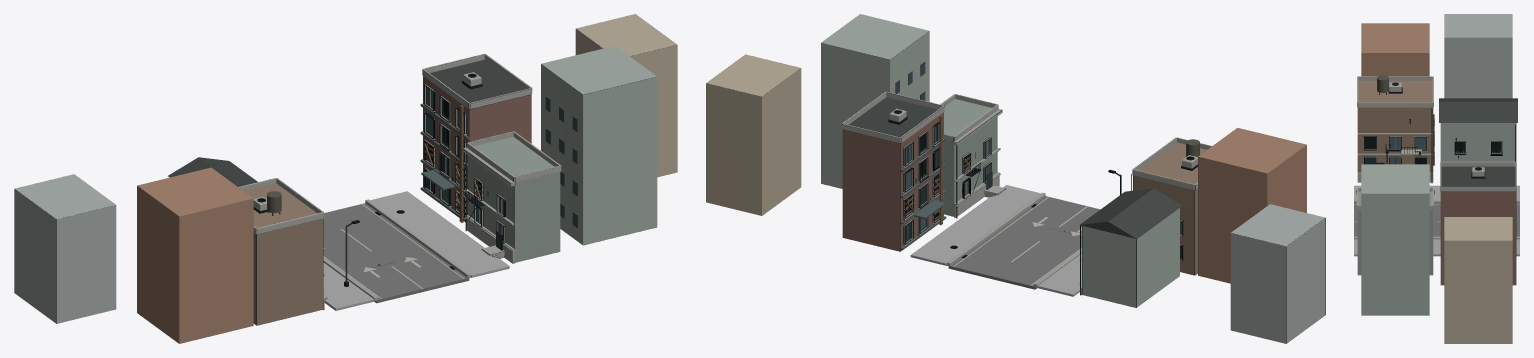
File: city_hd_20.glb
3 views of the same model, side by side, from view 1: azimuth 30°, elevation 25°; view 2: azimuth 150°, elevation 25°; view 3: azimuth 270°, elevation 25° (orthographic). The views are drawn at different scales.
Parts seen in each view (by area): view 1: Background city building, CITY_PBR_asphalt, CITY_PBR_pavement, CITY_curb, CITY_paint; view 2: Background city building, CITY_PBR_asphalt, CITY_PBR_pavement, CITY_curb, CITY_paint; view 3: Background city building, CITY_PBR_asphalt, CITY_PBR_pavement, CITY_ac_paint.
Boxes of the visible parts, x1,y1,x2,y2 form: Background city building: (14,14,677,343); CITY_PBR_asphalt: (323,203,469,303); CITY_PBR_pavement: (323,191,509,310); CITY_curb: (323,199,470,301); CITY_paint: (323,204,464,298); Background city building: (706,14,1325,343); CITY_PBR_asphalt: (948,196,1100,289); CITY_PBR_pavement: (910,185,1081,296); CITY_curb: (947,192,1081,287); CITY_paint: (953,196,1087,285); Background city building: (1356,14,1517,343); CITY_PBR_asphalt: (1354,203,1519,236); CITY_PBR_pavement: (1354,185,1519,256); CITY_ac_paint: (1389,82,1484,176).
Size of the model in its own units: 56 by 13.26 by 16.
Materials: 7 (1 with a texture image).
